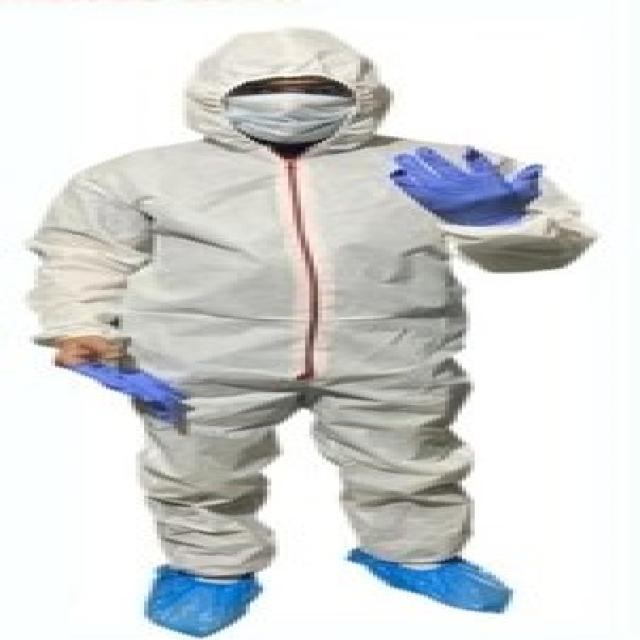Coverall: (22, 26, 610, 640)
Gloves: (382, 147, 560, 227)
Mask: (208, 91, 360, 144)
